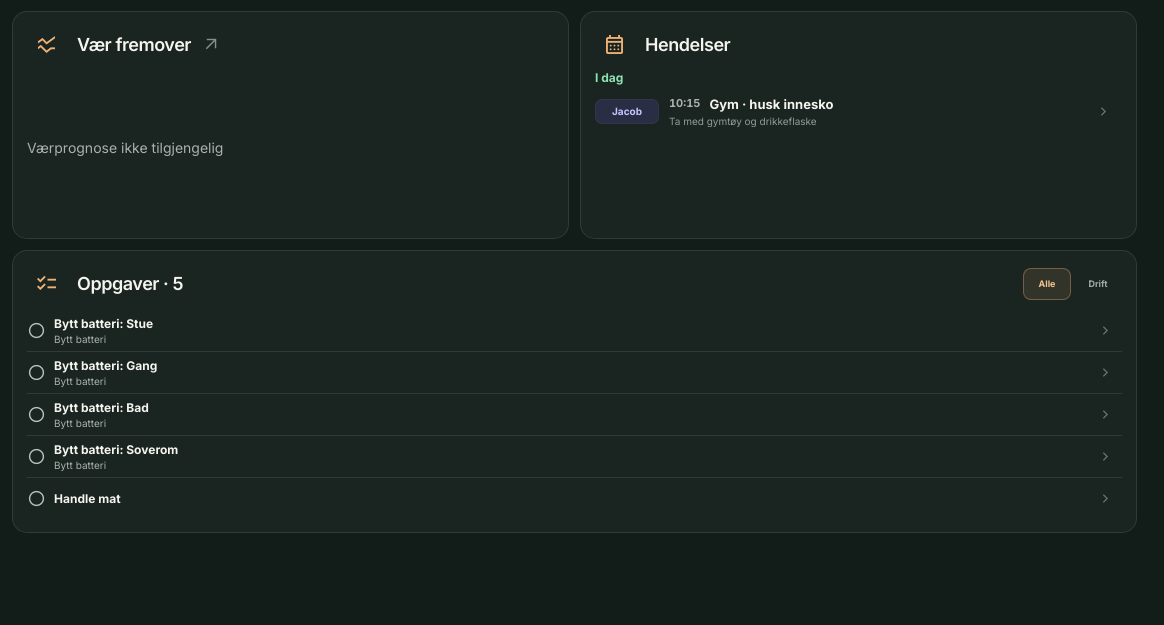
shows all tasks under Alle and only maintenance tasks under Drift
(page scrolled)
Check: the heading "Oppgaver · 5" is shown, box [77, 273, 183, 294]
Check: the button "Handle mat" is shown, box [27, 477, 1122, 519]
Click the button "Drift" at [1098, 284], box [1074, 268, 1122, 300]
(page scrolled)
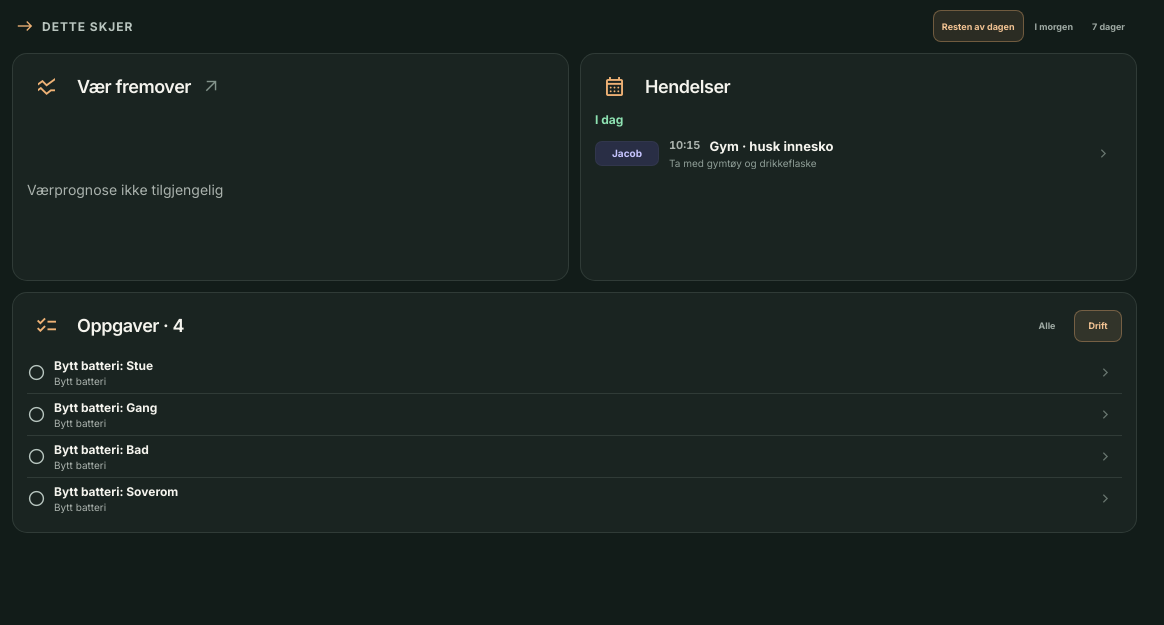
Check: the button "Bytt batteri: Stue Bytt batteri" is shown, box [27, 351, 1122, 393]
Check: the heading "Oppgaver · 4" is shown, box [77, 315, 184, 336]
Check: the button "Handle mat" is gone
Click the button "Alle" at [1047, 326], box [1023, 310, 1071, 342]
(page scrolled)
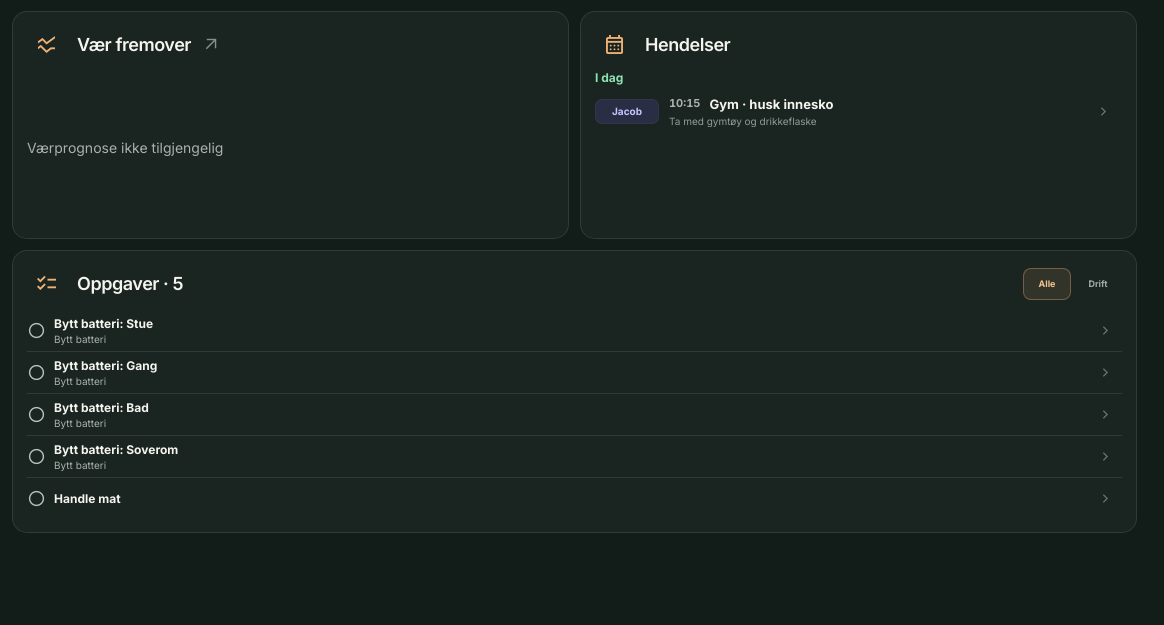
Check: the button "Handle mat" is shown, box [27, 477, 1122, 519]
